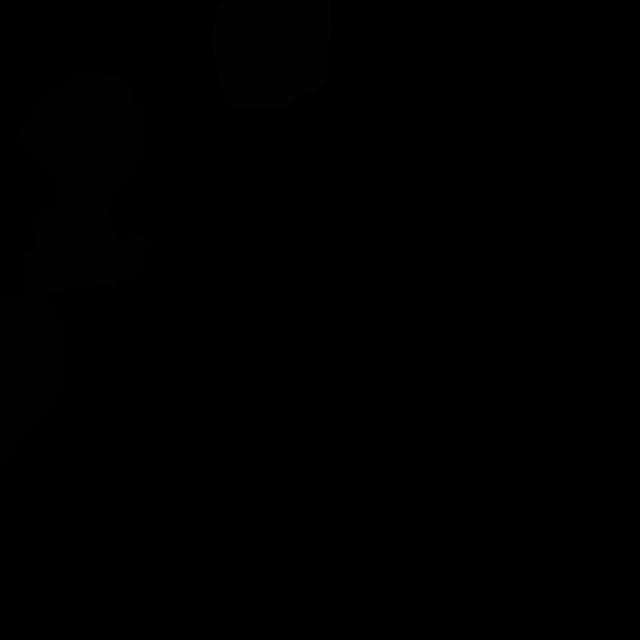cardboard: (211, 0, 332, 111)
rigid_plastic: (16, 68, 155, 295), (0, 291, 68, 474)
